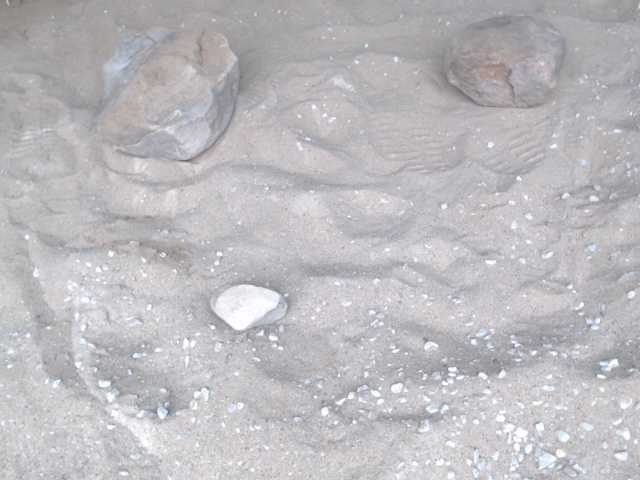rock: (92, 18, 244, 166), (439, 12, 570, 113), (204, 278, 292, 338)
